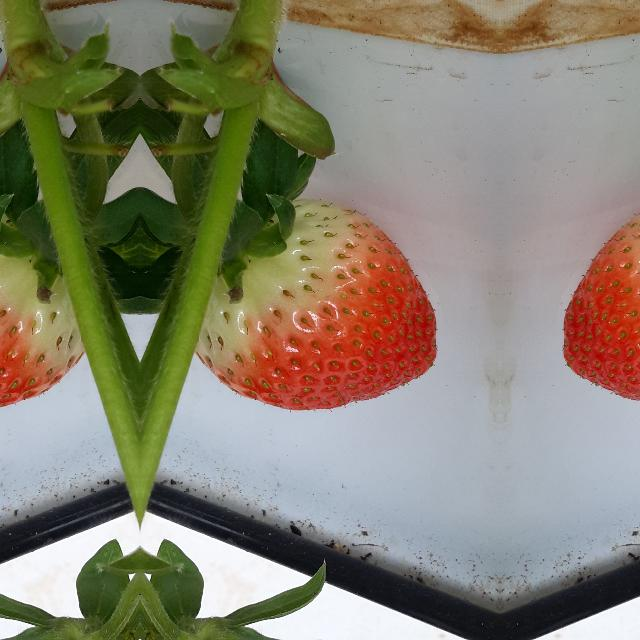Health_75: (194, 201, 436, 413), (0, 201, 86, 413), (564, 201, 640, 413)
